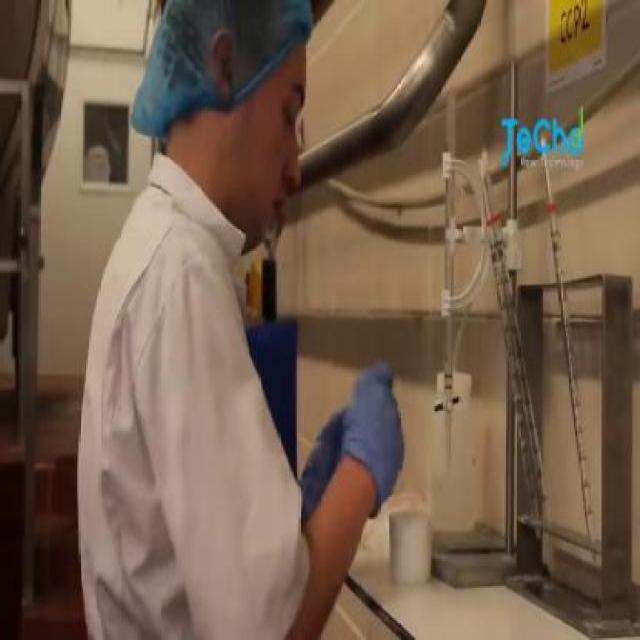hairnet: (141, 1, 312, 76)
